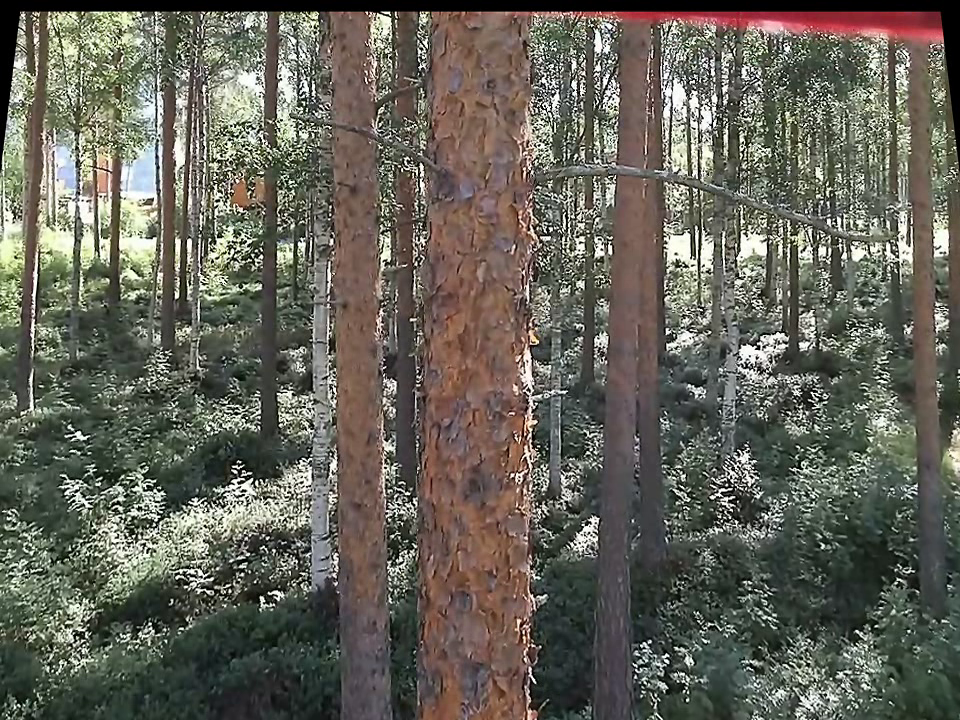branch: (537, 146, 876, 251)
trunk: (405, 10, 544, 713), (311, 9, 398, 716), (887, 27, 952, 625), (587, 15, 637, 717), (299, 65, 336, 589), (10, 20, 54, 421), (251, 12, 285, 468), (151, 22, 188, 370), (713, 121, 750, 451)
